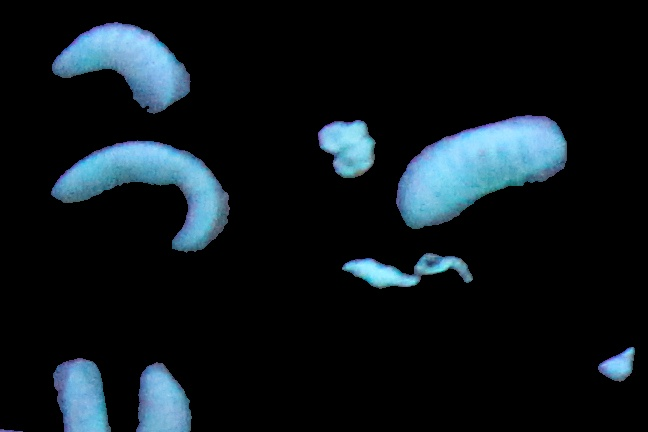larvae: (48, 133, 232, 253), (395, 113, 569, 231), (52, 18, 195, 112), (47, 351, 116, 432), (136, 361, 196, 432)
